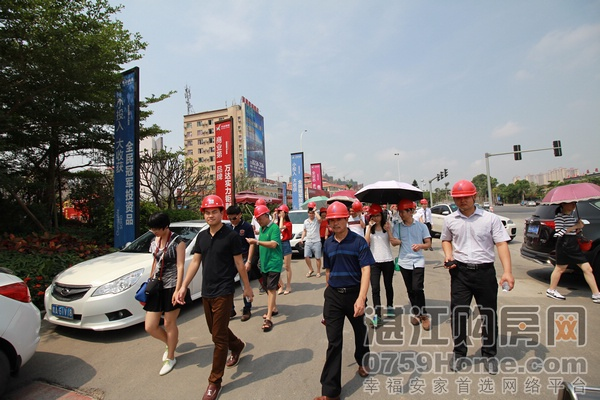none: (145, 209, 170, 239), (225, 204, 242, 224), (307, 206, 316, 220)
red: (450, 178, 478, 212), (199, 193, 225, 227), (325, 201, 349, 233), (253, 205, 271, 228), (397, 199, 415, 220), (368, 203, 384, 226), (276, 203, 289, 220), (318, 207, 328, 219), (420, 197, 428, 208)
